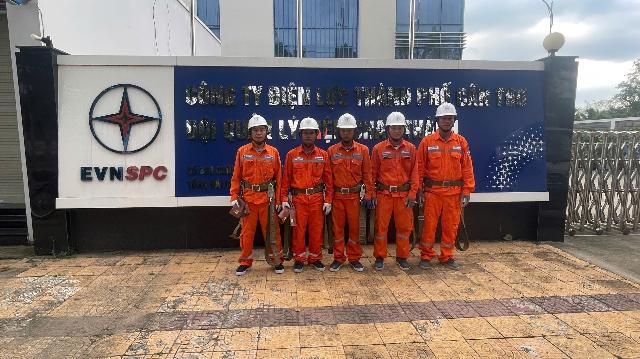gloves: (266, 199, 301, 229), (228, 194, 252, 220), (411, 190, 429, 215), (461, 190, 475, 213), (316, 199, 332, 218), (367, 195, 379, 212), (402, 199, 415, 210), (359, 199, 370, 210)
harness: (236, 174, 281, 195), (328, 178, 366, 198), (422, 175, 466, 192), (376, 174, 411, 193), (288, 186, 329, 199)
helmet: (428, 100, 463, 122), (242, 112, 274, 132), (298, 115, 321, 136), (335, 112, 359, 131), (380, 115, 410, 130)
shoes: (410, 254, 436, 272), (368, 250, 387, 274), (230, 257, 250, 279), (288, 252, 305, 276), (391, 255, 412, 274), (344, 257, 366, 275), (441, 256, 463, 274), (323, 256, 346, 273), (309, 257, 326, 275), (266, 263, 285, 276)
